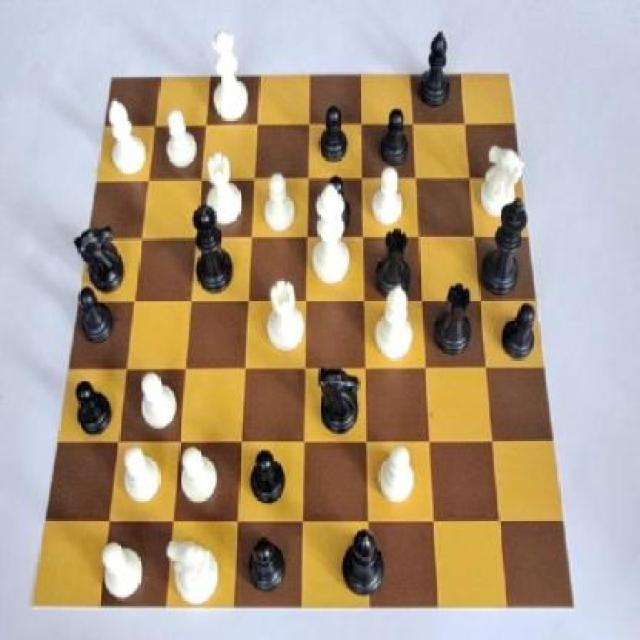bishop: (334, 517, 393, 609), (414, 25, 460, 117)
black-bishop: (474, 190, 534, 298)
black-king: (69, 220, 130, 306), (312, 362, 366, 439)
black-knight: (242, 523, 292, 601), (242, 442, 293, 518), (70, 278, 118, 352), (494, 302, 544, 368), (312, 95, 357, 168), (72, 374, 120, 438), (316, 172, 362, 236), (374, 104, 413, 168)
black-pawn: (189, 198, 242, 294)
black-queen: (369, 217, 418, 301), (428, 279, 475, 366)
black-rook: (371, 272, 418, 364), (106, 96, 152, 180)
white-bishop: (305, 180, 360, 295)
white-king: (163, 528, 229, 608), (472, 143, 533, 229)
white-knight: (91, 535, 149, 608), (369, 440, 422, 514), (252, 164, 301, 240), (175, 442, 227, 512), (135, 368, 184, 434), (119, 434, 162, 508), (160, 104, 201, 174), (366, 167, 407, 236)
white-pawn: (206, 23, 255, 124)
white-queen: (262, 277, 309, 371), (198, 141, 248, 227)
